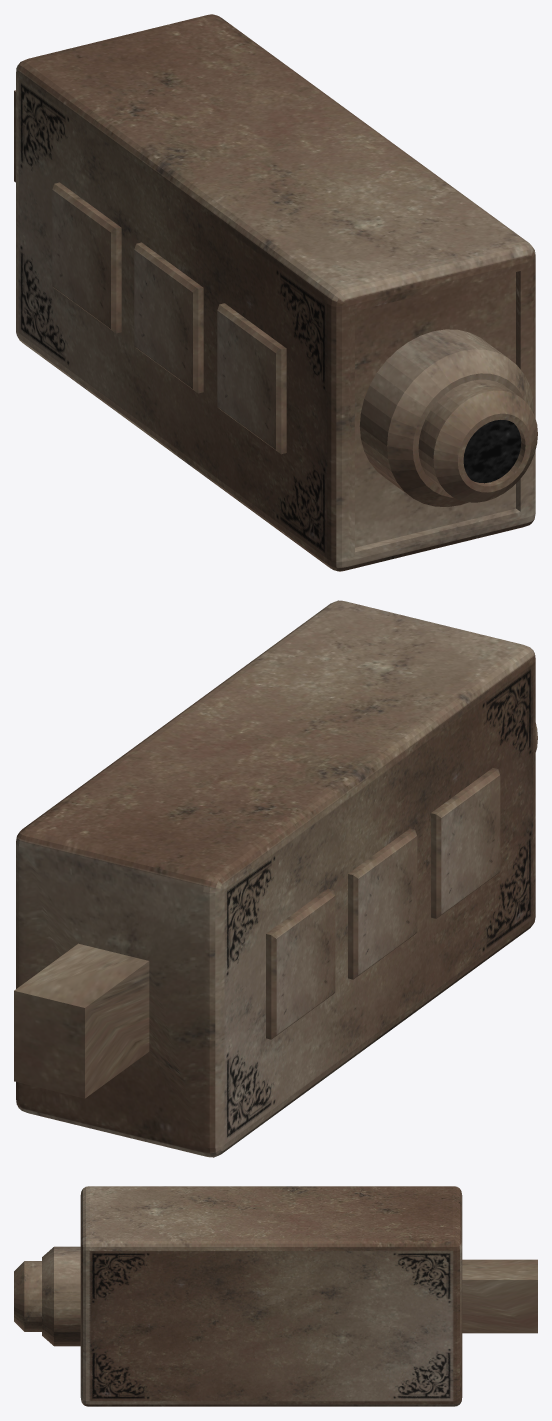
File: LaserTransmitter.fbx
3 views of the same model, one above another, from view 1: azimuth 30°, elevation 25°; view 2: azimuth 150°, elevation 25°; view 3: azimuth 270°, elevation 25° (orthographic). The views are drawn at different scales.
Parts seen in each view (by area): view 1: polySurface10; view 2: polySurface10; view 3: polySurface10.
Boxes of the visible parts, x1=… form: polySurface10: x1=14, y1=14, x2=537, y2=571; polySurface10: x1=14, y1=600, x2=537, y2=1157; polySurface10: x1=14, y1=1186, x2=537, y2=1406.
Size of the model in its own units: 1.46 by 1.83 by 5.21.
1 material, 1 textured.
